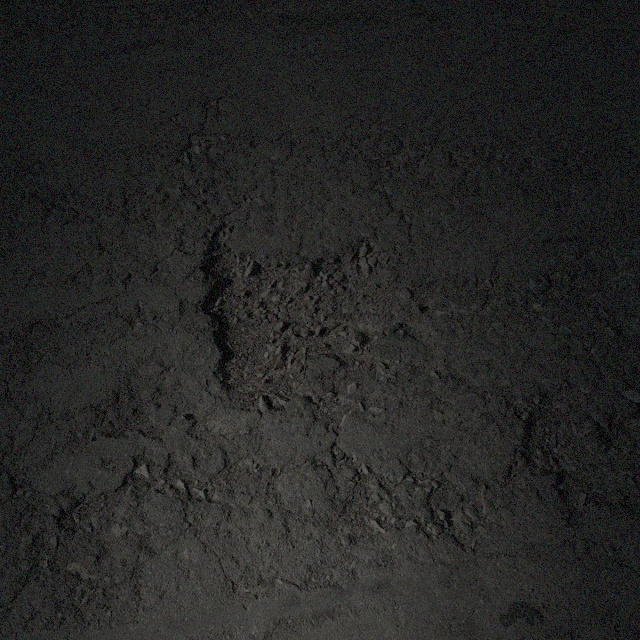pothole: (188, 220, 406, 412), (514, 396, 594, 508)
